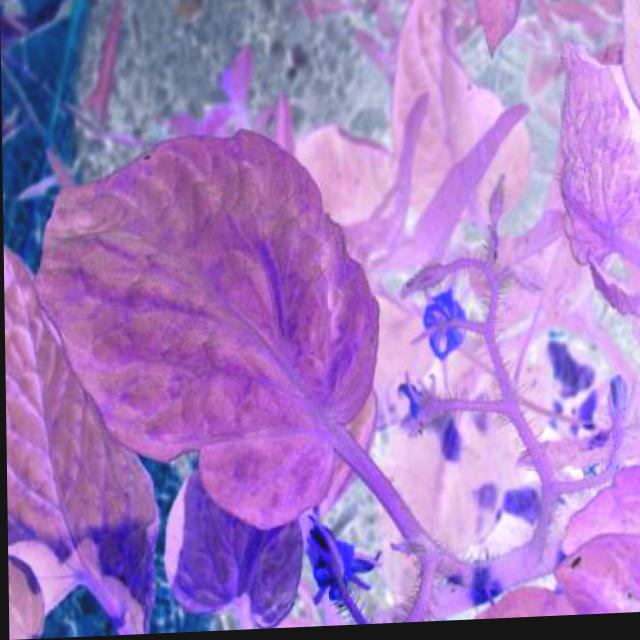Tomato yellow virus leaf: (39, 113, 390, 537), (4, 255, 185, 639), (530, 34, 639, 276)
